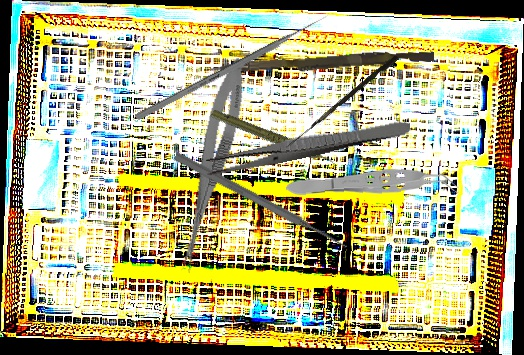Dressing Forceps: (202, 113, 413, 179)
Handpiece: (209, 86, 338, 194)
Hook Surgical: (285, 53, 400, 153)
Micro Scissor: (173, 54, 253, 277)
Pusher: (134, 12, 331, 122), (172, 150, 350, 253), (209, 45, 435, 81)
Tissue Forceps: (285, 165, 460, 203)
